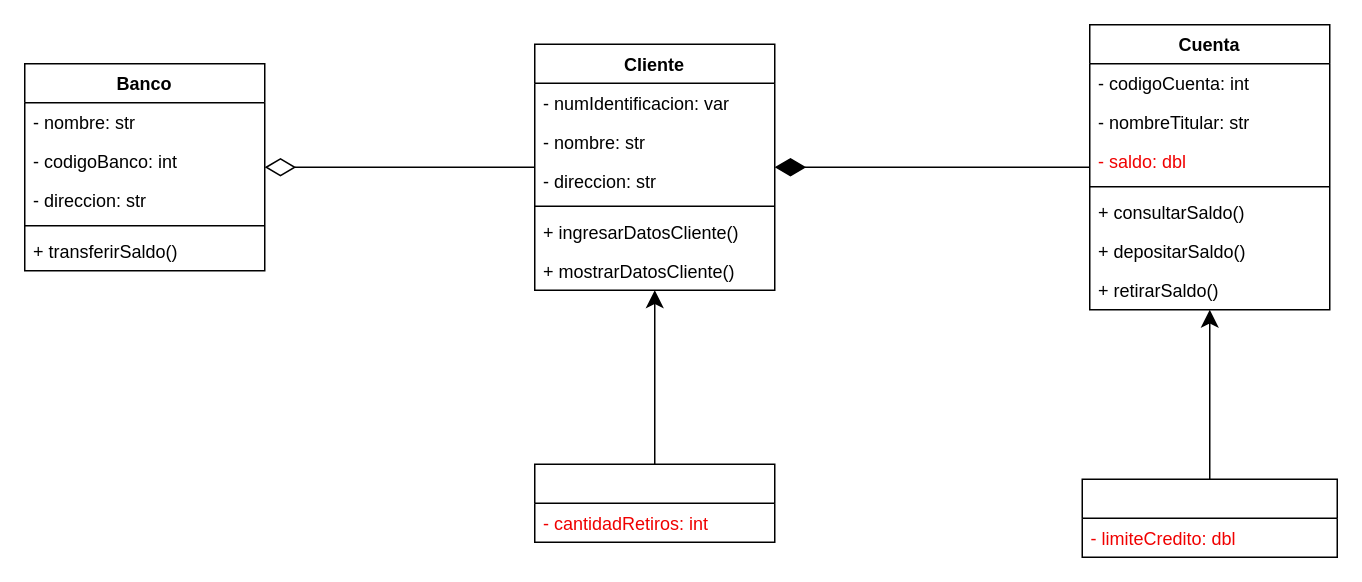
Some shapes in this 1362 by 582 pixel diagram are drawn without their labels. The box of each missing label's shape, as (x1, y1, x2, y2) in pixels:
Cta. Corriente: (1081, 478, 1337, 557)
Cta. de Ahorro: (533, 463, 775, 542)
